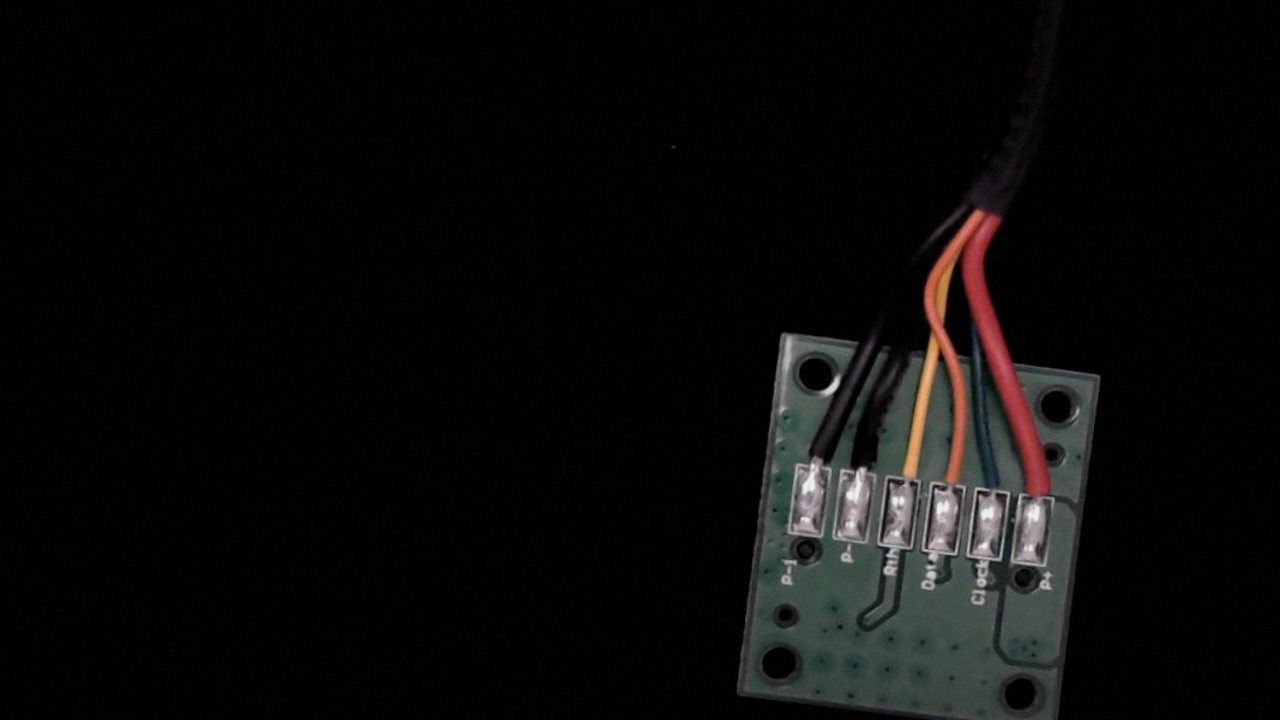Black: (839, 408, 891, 494)
Black1: (792, 406, 842, 485)
Green: (970, 429, 1022, 512)
Orange: (929, 422, 979, 506)
Red: (1012, 436, 1065, 519)
Yellow: (883, 412, 936, 499)
